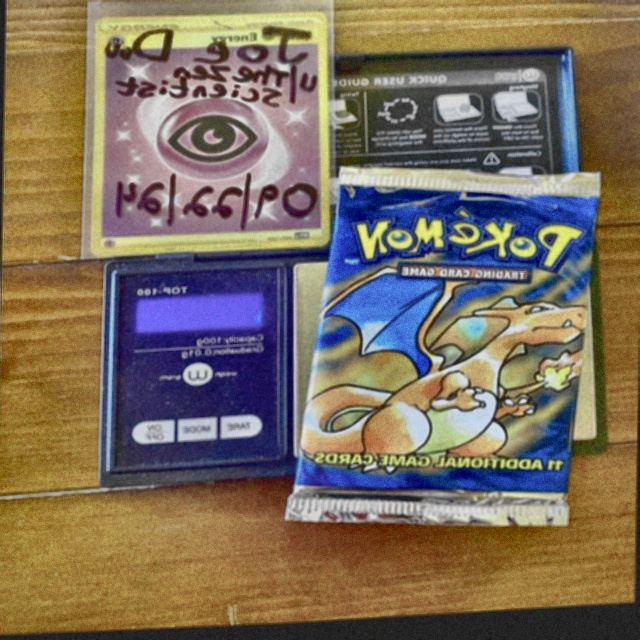card: (87, 13, 332, 258)
